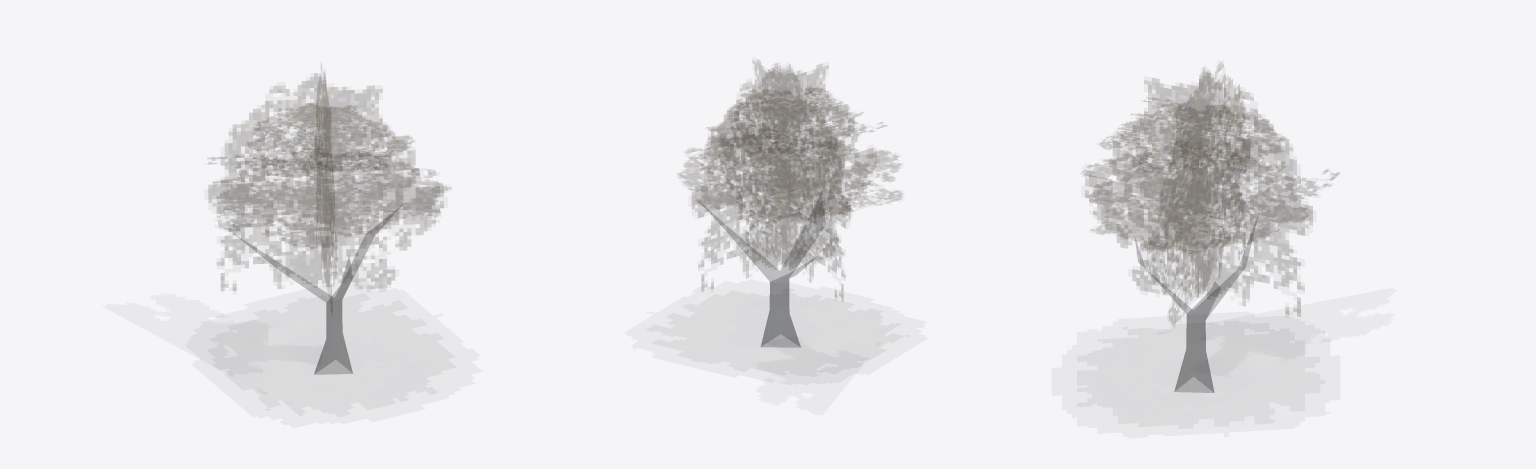
Rendered from source.glb.
3 views of the same model, side by side, from view 1: azimuth 30°, elevation 25°; view 2: azimuth 150°, elevation 25°; view 3: azimuth 270°, elevation 25° (orthographic). The views are drawn at different scales.
Parts seen in each view (by area): view 1: obj_106b570; view 2: obj_106b570; view 3: obj_106b570.
Boxes of the visible parts, left/top/right/bottom form: obj_106b570: left=208, top=65, right=451, bottom=374; obj_106b570: left=678, top=59, right=902, bottom=347; obj_106b570: left=1081, top=62, right=1339, bottom=392.
Bounding box in the file's own units: 36.17 × 33.93 × 49.76.
4 materials, 4 textured.
